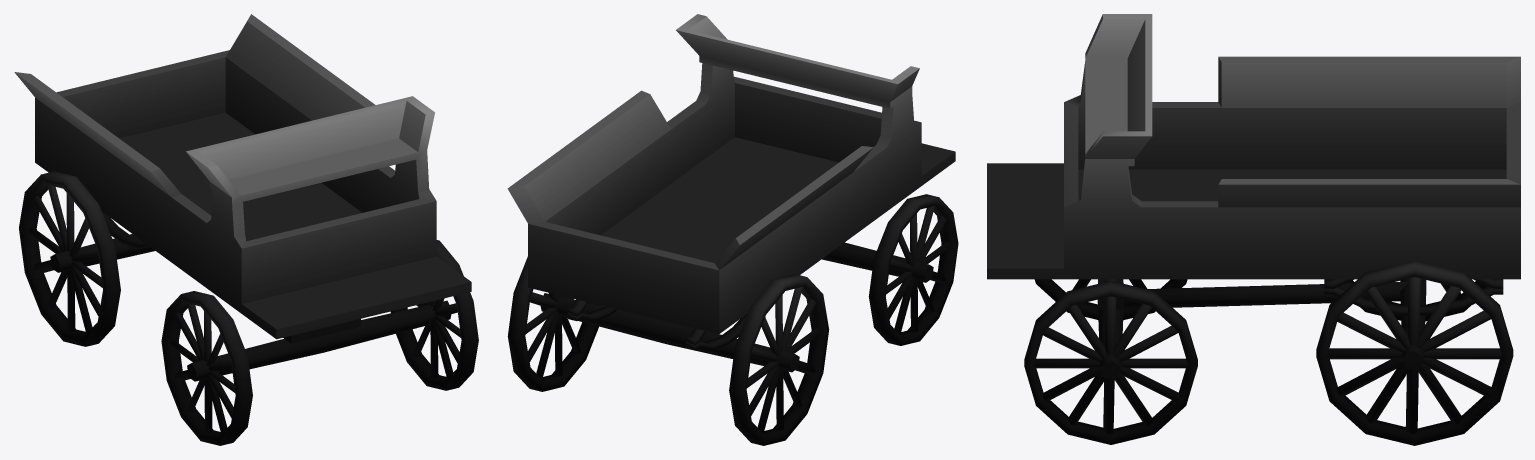
File: Cover1.glb
The picture shows the model from 3 angles, left to right: view 1: azimuth 30°, elevation 25°; view 2: azimuth 150°, elevation 25°; view 3: azimuth 270°, elevation 25°; orthographic projection. The views are drawn at different scales.
Parts seen in each view (by area): view 1: Cover1; view 2: Cover1; view 3: Cover1.
Part boxes in pixels (x1,y1,x2,y2): Cover1: (14,14,478,445); Cover1: (507,14,958,445); Cover1: (987,14,1520,445).
Size of what is drawn, in the model's own units: 2.92 by 3.01 by 4.77.
Materials: 1 (1 with a texture image).
